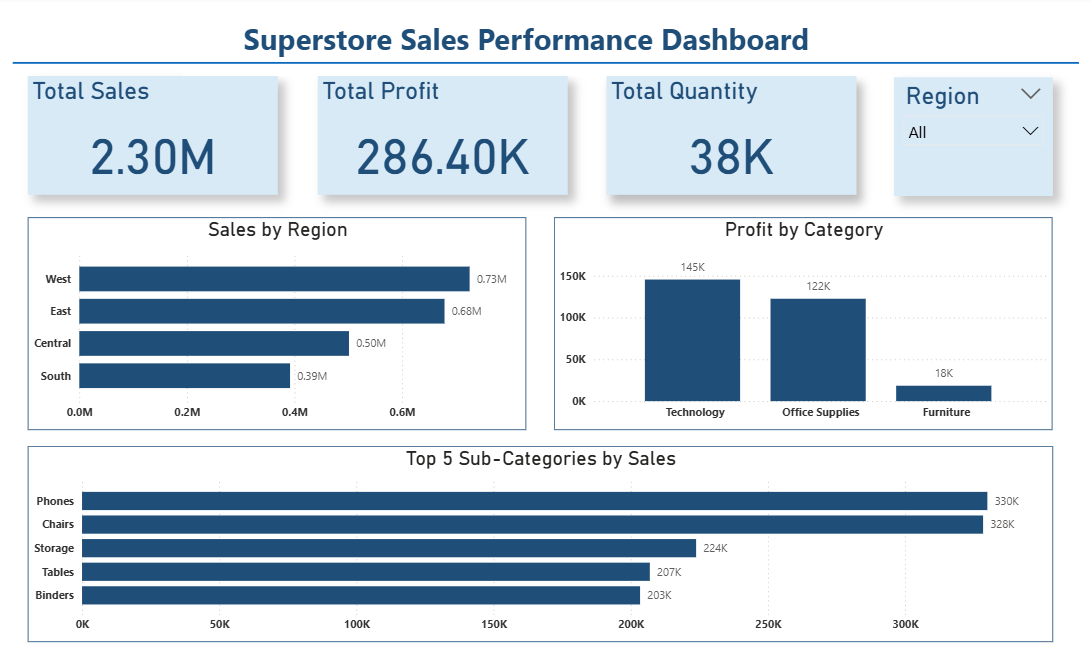

What the dashboard file says about the page in this screenshot:
{"tool":"powerbi","page":{"name":"Page 1","canvas":[1280,720],"ordinal":0},"visuals":[{"type":"card","title":"Total Sales","fields":{"Values":["Sum(SampleSuperstore.Sales)"]},"box":[91.9,87.8,274.4,130.4],"z":0},{"type":"card","title":"Total Profit","fields":{"Values":["Sum(SampleSuperstore.Profit)"]},"box":[410.3,87.8,274,130.4],"z":1000},{"type":"card","title":"Total Quantity","fields":{"Values":["Sum(SampleSuperstore.Quantity)"]},"box":[727.3,87.8,274,130.4],"z":2000},{"type":"textbox","box":[262.1,20.6,754.7,67.2],"z":3000},{"type":"shape","box":[75.5,41.2,1170.5,64.5],"z":4000},{"type":"clusteredBarChart","title":"Sales by Region","fields":{"Category":["SampleSuperstore.Region"],"Y":["Sum(SampleSuperstore.Sales)"]},"box":[91.9,242.9,547.5,233.3],"z":5000},{"type":"clusteredColumnChart","title":"Profit by Category","fields":{"Category":["SampleSuperstore.Category"],"Y":["Sum(SampleSuperstore.Profit)"]},"box":[669.6,242.9,547.5,233.3],"z":6000},{"type":"clusteredBarChart","title":"Top 5 Sub-Categories by Sales","fields":{"Category":["SampleSuperstore.Sub-Category"],"Y":["Sum(SampleSuperstore.Sales)"]},"box":[91.9,494,1125.2,215.4],"z":7000},{"type":"slicer","fields":{"Values":["SampleSuperstore.Region"]},"box":[1042.9,89.2,174.3,130.4],"z":8000}]}

Visuals, with their boxes on the page's 1280x720 design canvas (x1, y1, x2, y2). These are canvas units, not pixel positions in the 1091x647 screenshot, which may show the page scaled, cropped or inside an application window:
"Total Sales" card: select_region(92, 88, 366, 218)
"Total Profit" card: select_region(410, 88, 684, 218)
"Total Quantity" card: select_region(727, 88, 1001, 218)
textbox: select_region(262, 21, 1017, 88)
shape: select_region(76, 41, 1246, 106)
"Sales by Region" clusteredBarChart: select_region(92, 243, 639, 476)
"Profit by Category" clusteredColumnChart: select_region(670, 243, 1217, 476)
"Top 5 Sub-Categories by Sales" clusteredBarChart: select_region(92, 494, 1217, 709)
slicer - SampleSuperstore.Region: select_region(1043, 89, 1217, 220)
